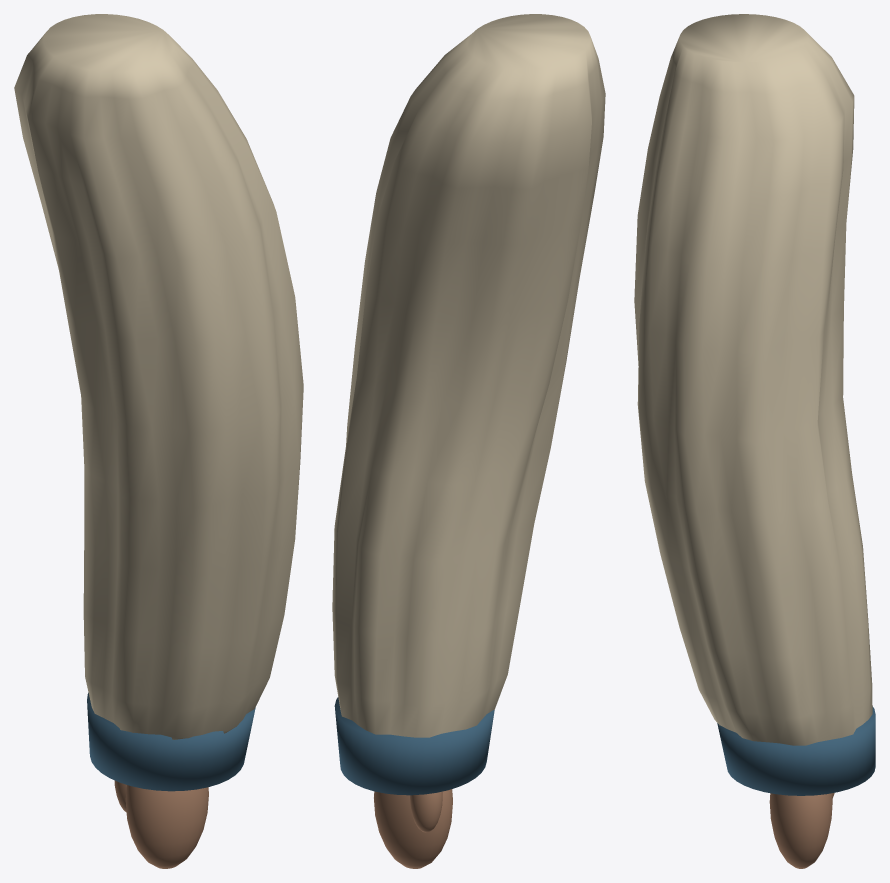
File: PilgrimRightSleeve.fbx
3 renders of one model, left to right at view 1: azimuth 30°, elevation 25°; view 2: azimuth 150°, elevation 25°; view 3: azimuth 270°, elevation 25°, orthographic. The views are drawn at different scales.
Parts seen in each view (by area): view 1: PilgrimRightSleeve; view 2: PilgrimRightSleeve; view 3: PilgrimRightSleeve.
Part boxes in pixels (bbox=[...]): PilgrimRightSleeve: bbox=[14, 14, 303, 868]; PilgrimRightSleeve: bbox=[332, 14, 605, 868]; PilgrimRightSleeve: bbox=[634, 14, 875, 868].
Size of the model in its own units: 18.51 by 16.86 by 60.8.
